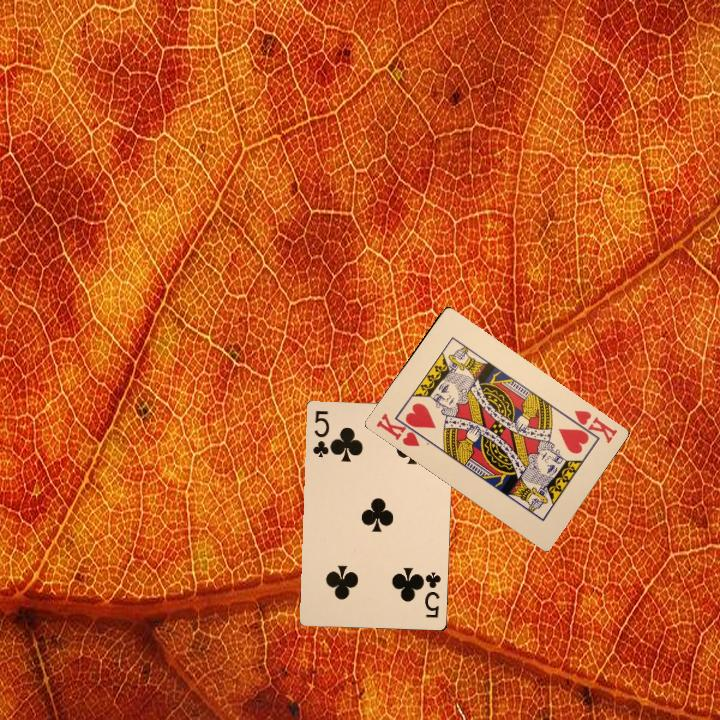5c: (418, 568, 443, 620), (309, 407, 332, 460)
Kh: (372, 409, 428, 449), (565, 406, 620, 446)
